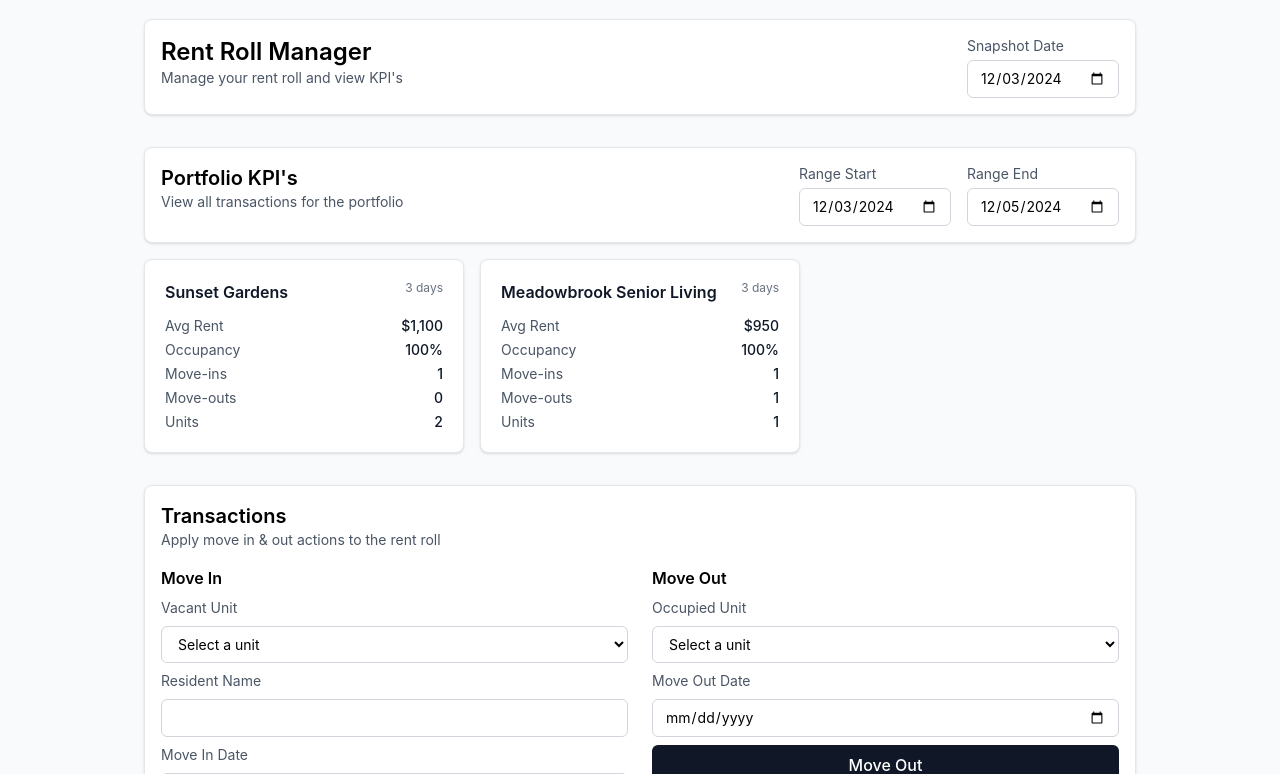
Test case: CRM UI › updates KPIs after moving in a resident
The image size is (1280, 774).
Expected: the element with test id "kpi-card-Sunset-Gardens" is shown, [144,259,464,453]
Select "Sunset Gardens - P1-U01" in the dropdown named "Move In Unit": (394, 644) [161,626,628,663]
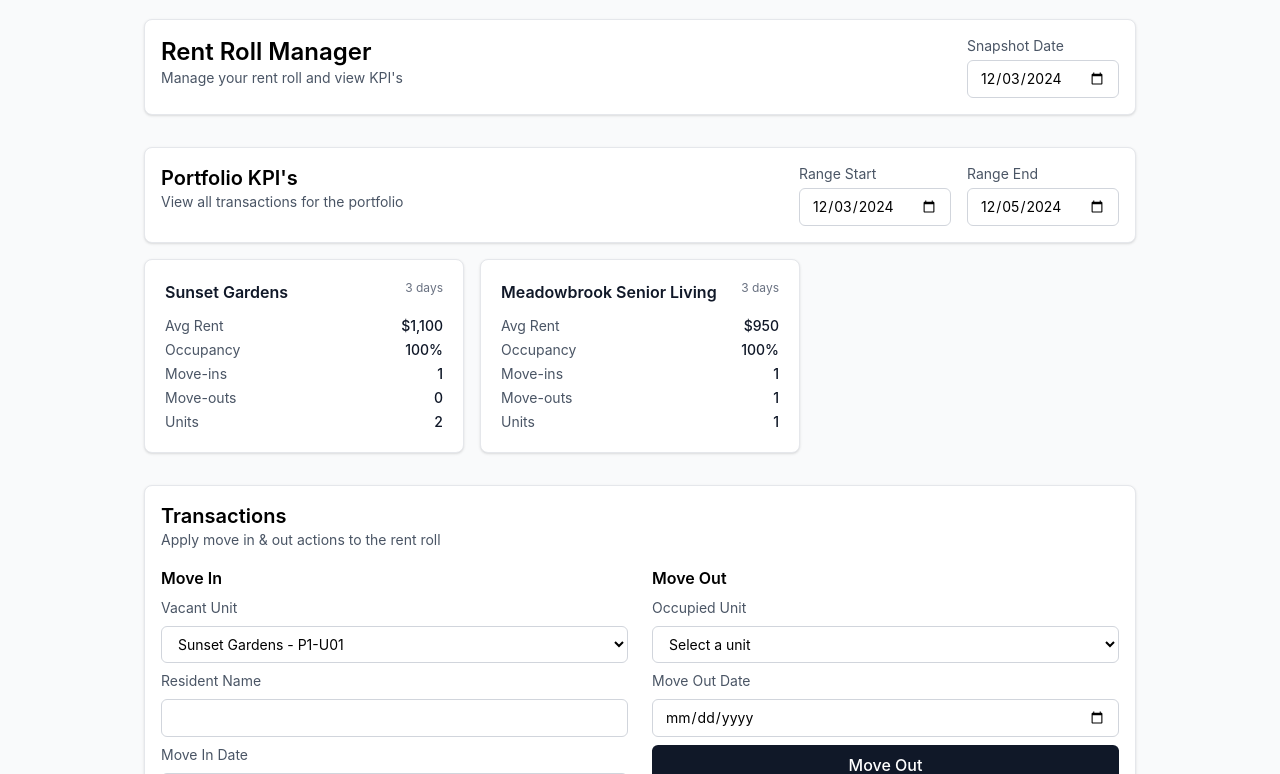
In the field named "Resident Name": (394, 718) [161,699,628,737], type "New Resident"
(page scrolled)
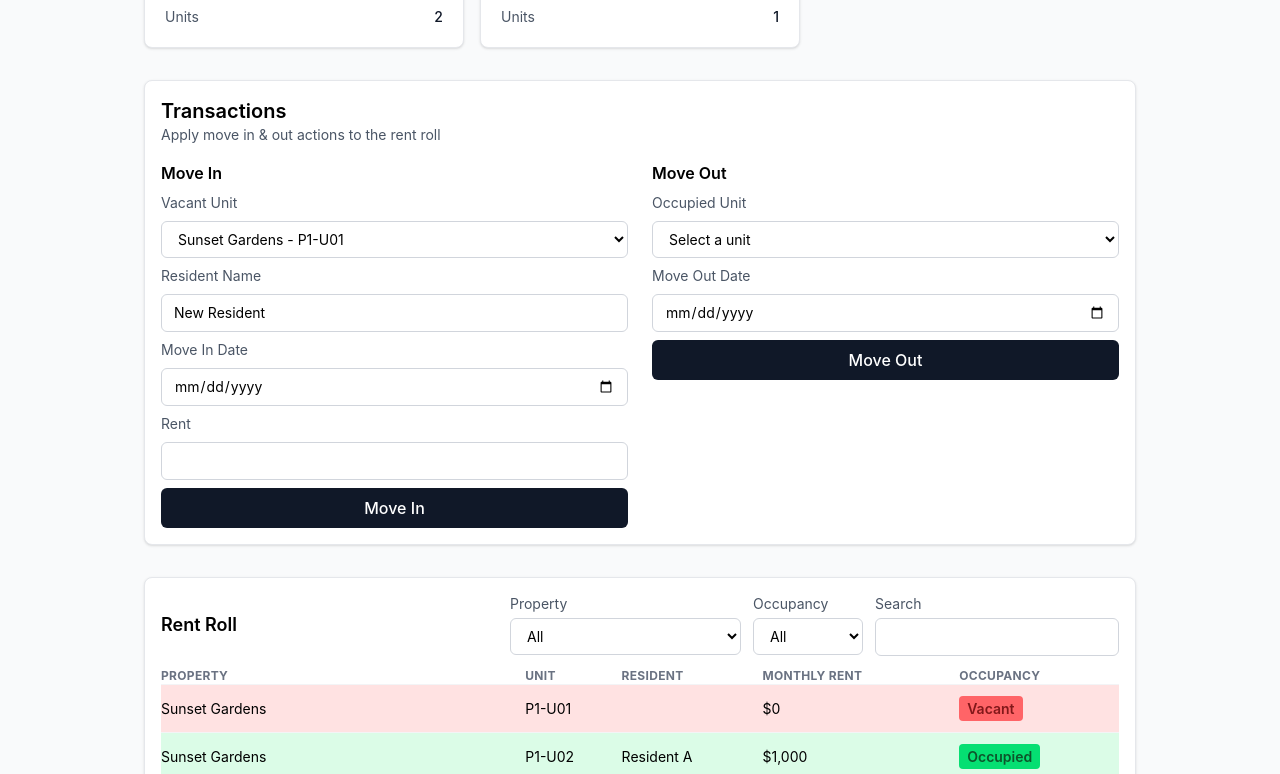
In the date field named "Move In Date": (394, 387) [161,368,628,406], type "2024-12-04"
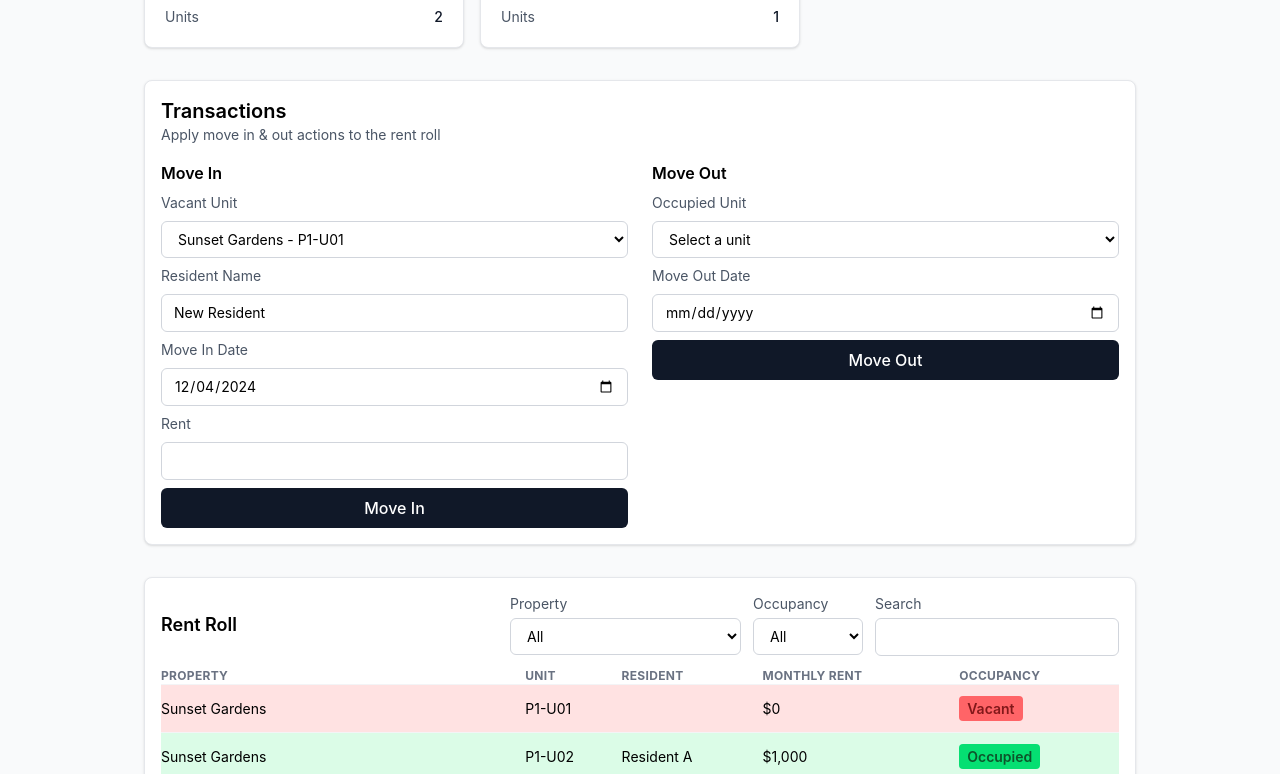
In the number field named "Rent": (394, 461) [161,442,628,480], type "1500"
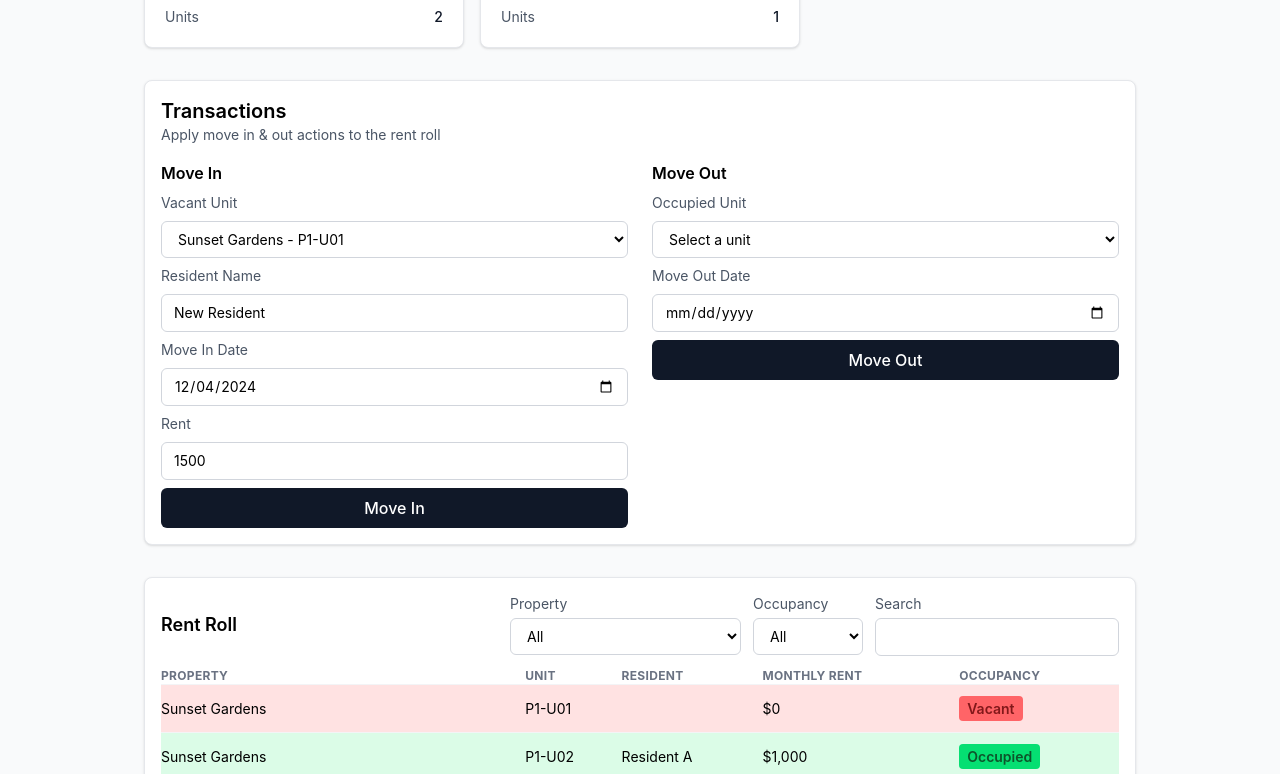
Click the text "Move In": click(394, 508) [161,488,628,528]
(page scrolled)
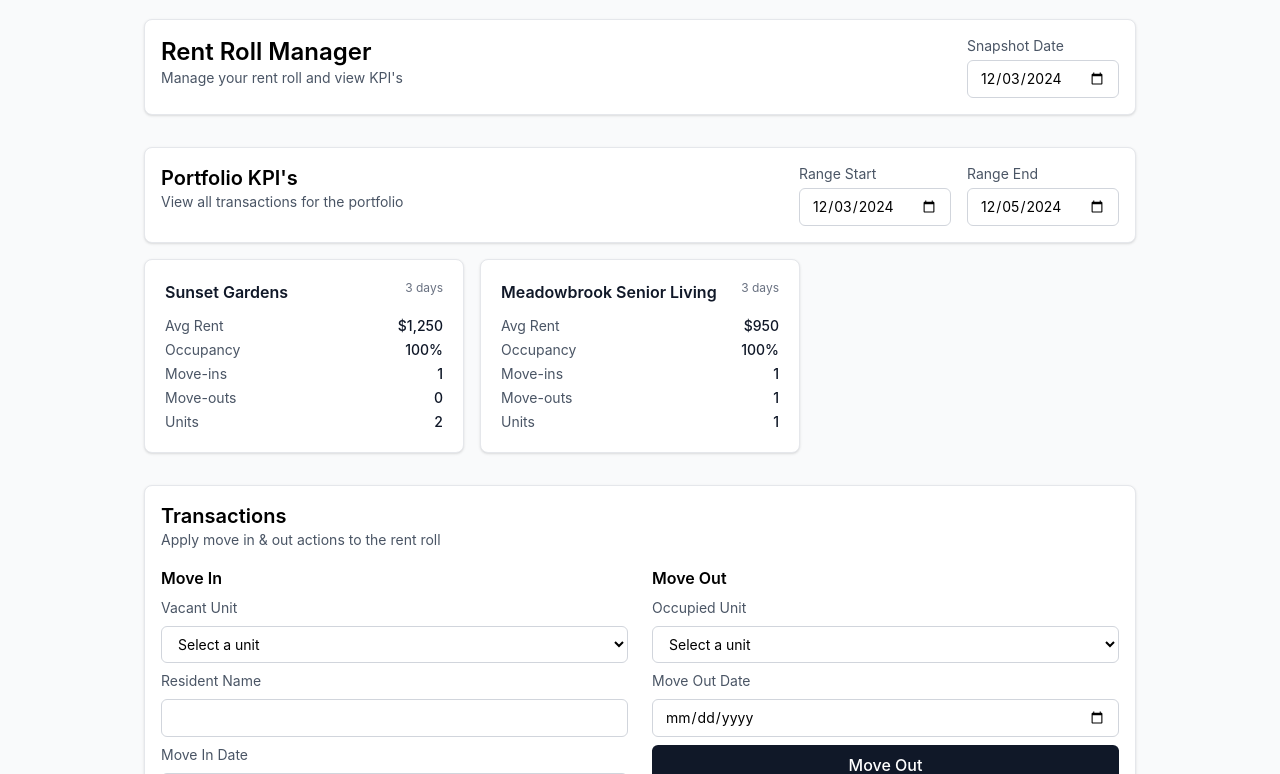
Expected: the text "$1,250" is shown, [398,316,443,336]
